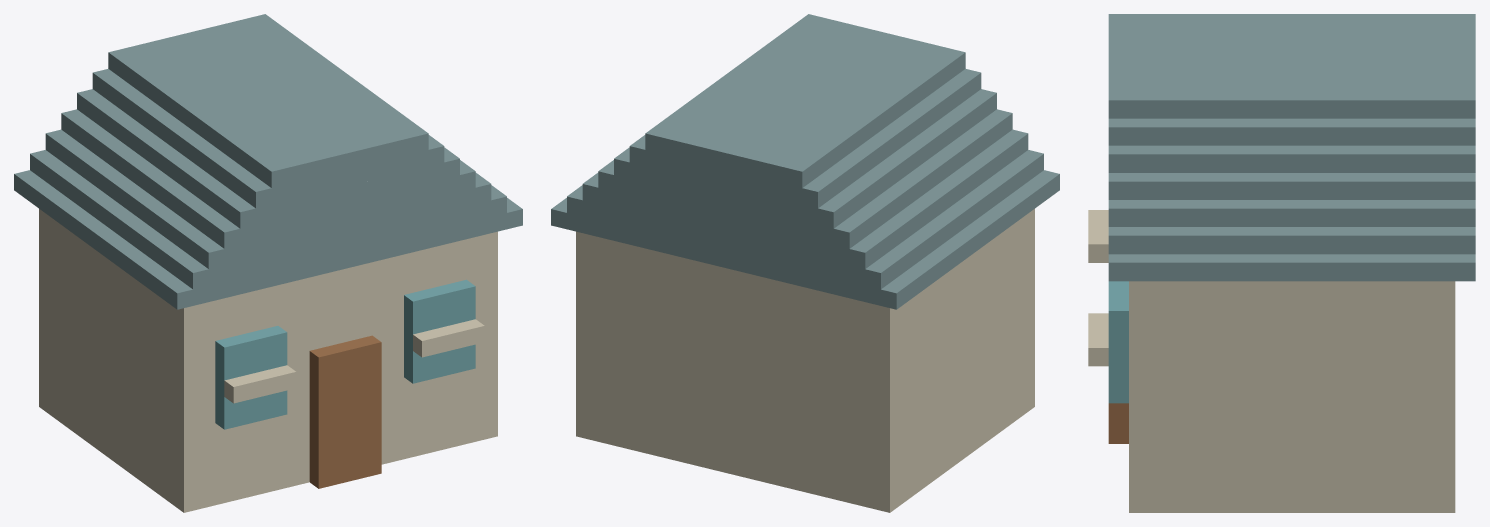
Rendered from iot-10.glb.
3 renders of one model, left to right at view 1: azimuth 30°, elevation 25°; view 2: azimuth 150°, elevation 25°; view 3: azimuth 270°, elevation 25°, orthographic. The views are drawn at different scales.
Visible parts, largest first — view 1: Home model; view 2: Home model; view 3: Home model.
Part boxes in pixels (x1,y1,x2,y2): Home model: (14,14,522,512); Home model: (551,14,1059,512); Home model: (1088,14,1475,512).
Size of the model in its own units: 1.76 by 1.6 by 1.52.
